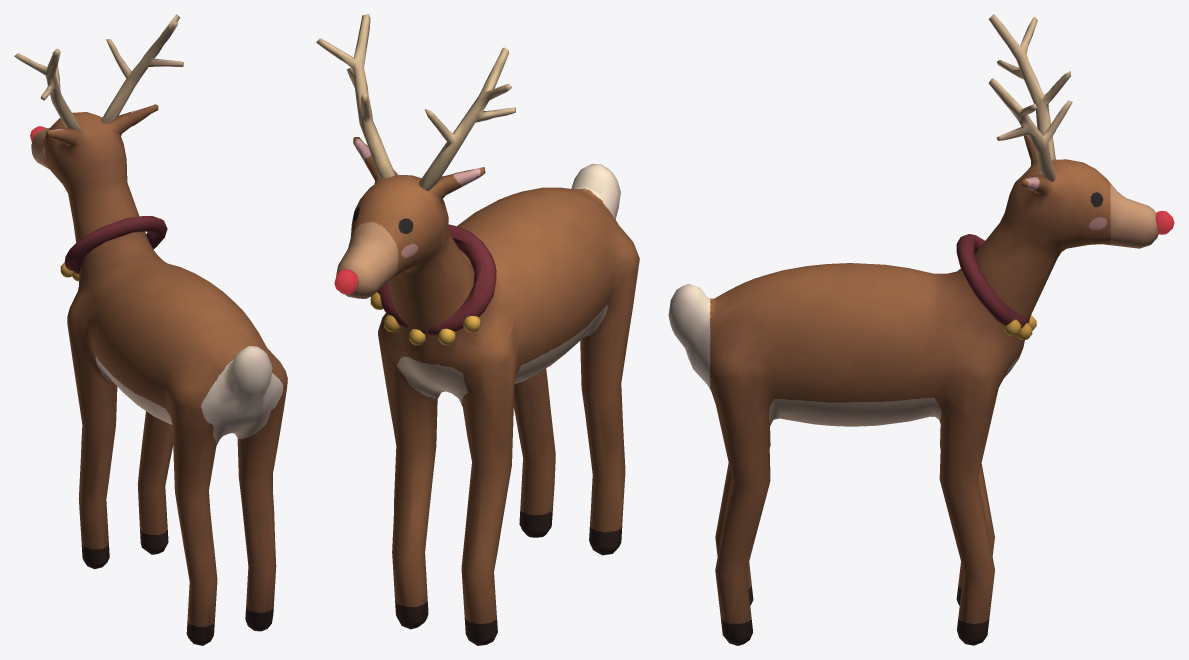
Rendered from reindeer.glb.
3 renders of one model, left to right at view 1: azimuth 30°, elevation 25°; view 2: azimuth 150°, elevation 25°; view 3: azimuth 270°, elevation 25°, orthographic. The views are drawn at different scales.
Parts seen in each view (by area): view 1: Body, Antlers, Harness; view 2: Body, Antlers, Harness, Bells, Nose; view 3: Body, Antlers, Harness.
Part boxes in pixels (x1,y1,x2,y2): Body: [31, 104, 287, 645]; Antlers: [14, 14, 183, 130]; Harness: [64, 216, 167, 274]; Body: [336, 137, 639, 645]; Antlers: [316, 14, 515, 190]; Harness: [377, 224, 496, 334]; Bells: [370, 292, 480, 345]; Nose: [334, 269, 358, 294]; Body: [668, 135, 1158, 645]; Antlers: [988, 14, 1072, 181]; Harness: [956, 234, 1029, 328].
Bounding box in the file's own units: 0.6169 × 1.86 × 1.47.
Materials: 2 (2 with a texture image).
